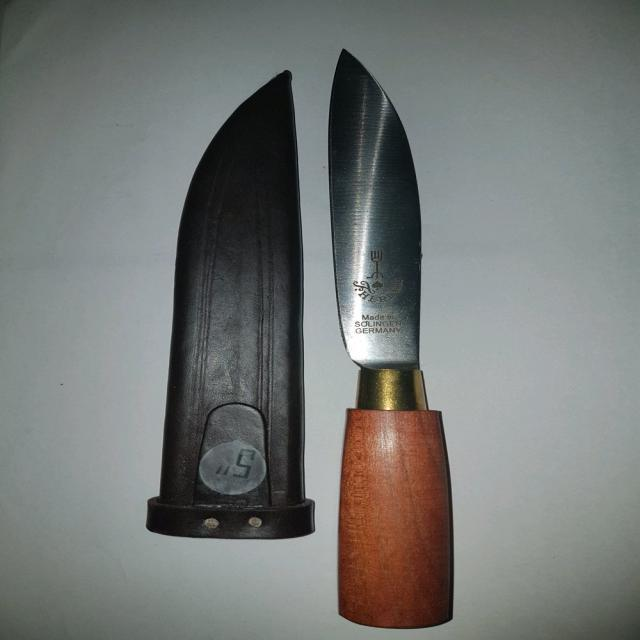Pisau: (320, 27, 473, 637)
